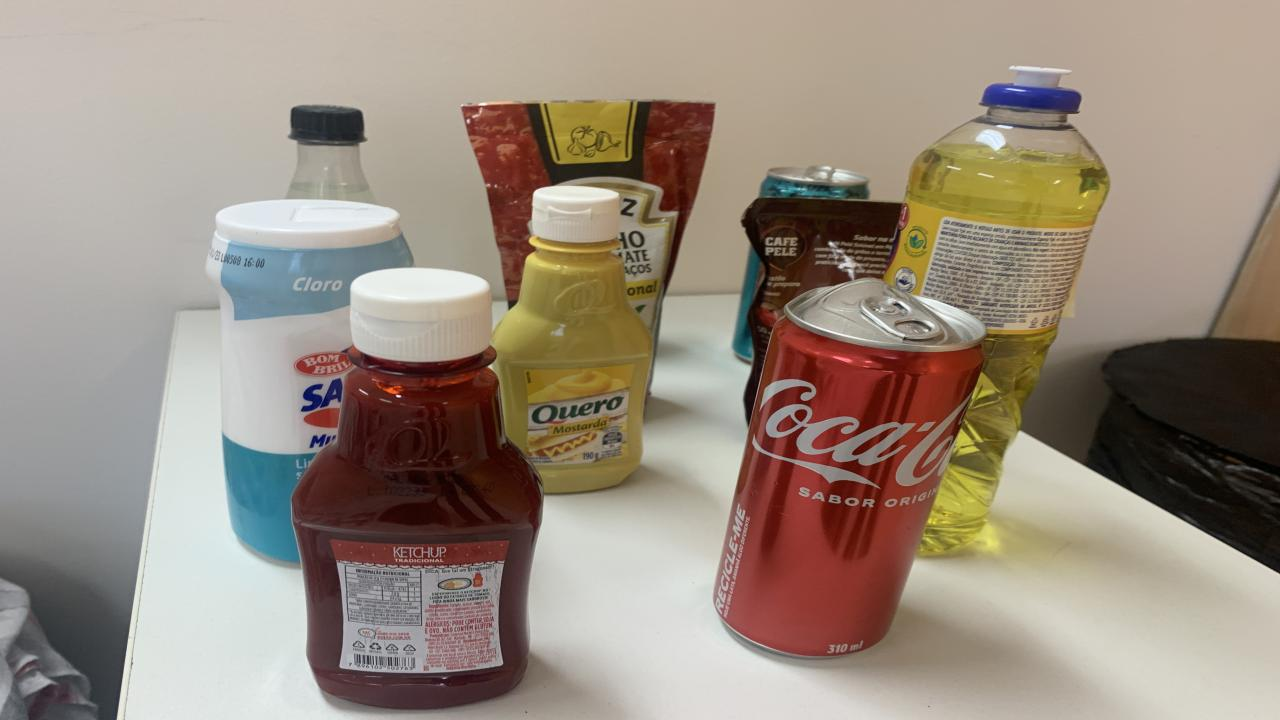Cleaner-Cleanup_Items: (205, 199, 412, 562)
Coffee-Pantry_Items: (742, 197, 900, 418)
Coke-Drinks: (715, 278, 988, 656)
Detergent-Cleanup_Items: (885, 69, 1110, 551)
Ketchup-Pantry_Items: (292, 268, 542, 709)
Mustard-Pantry_Items: (492, 186, 652, 493)
Tomato_Sauce-Pantry_Items: (462, 101, 715, 336)
